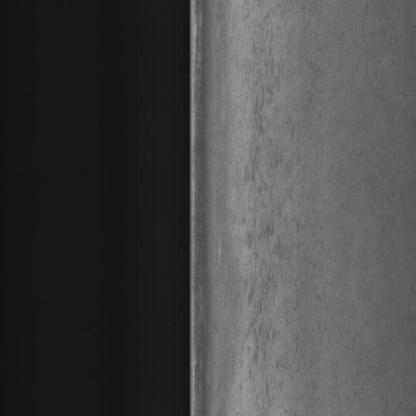silk_spot: (238, 25, 314, 399)
